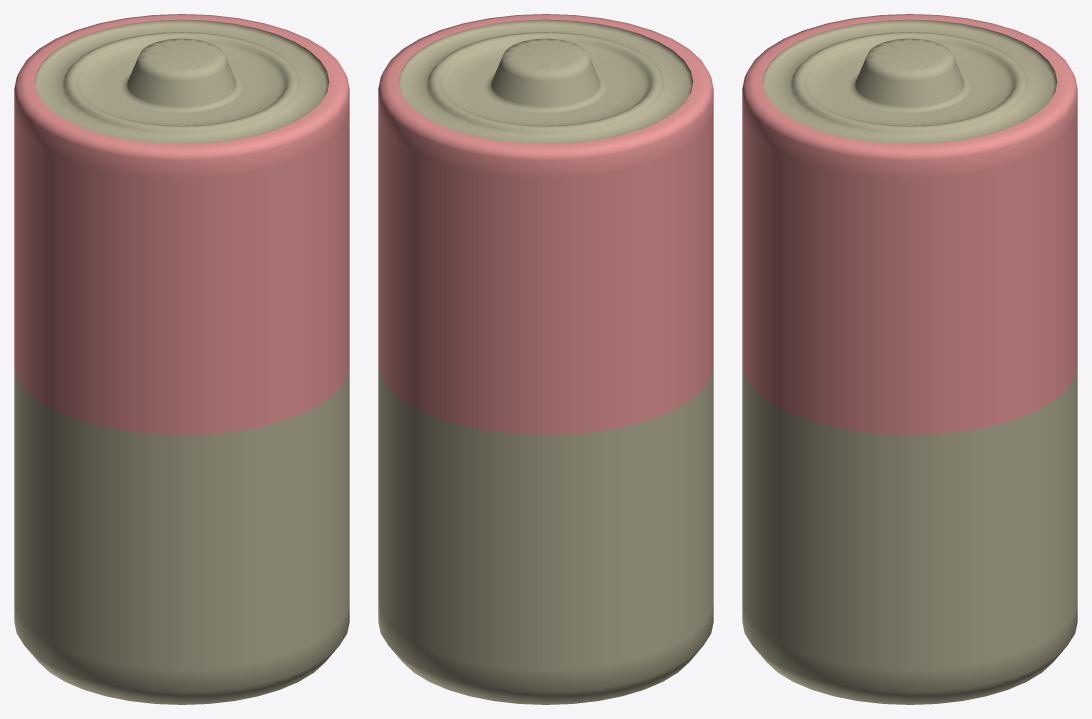
The model's file is bateria.FBX.
The picture shows the model from 3 angles, left to right: view 1: azimuth 30°, elevation 25°; view 2: azimuth 150°, elevation 25°; view 3: azimuth 270°, elevation 25°; orthographic projection.
Parts seen in each view (by area): view 1: Cylinder001, Object001; view 2: Cylinder001, Object001; view 3: Cylinder001, Object001.
Boxes of the visible parts, x1=… form: Cylinder001: x1=14, y1=19, x2=349, y2=704; Object001: x1=14, y1=14, x2=349, y2=434; Cylinder001: x1=378, y1=19, x2=713, y2=704; Object001: x1=378, y1=14, x2=713, y2=434; Cylinder001: x1=742, y1=19, x2=1077, y2=704; Object001: x1=742, y1=14, x2=1077, y2=434.
Size of the model in its own units: 30.58 by 60.7 by 30.58.
